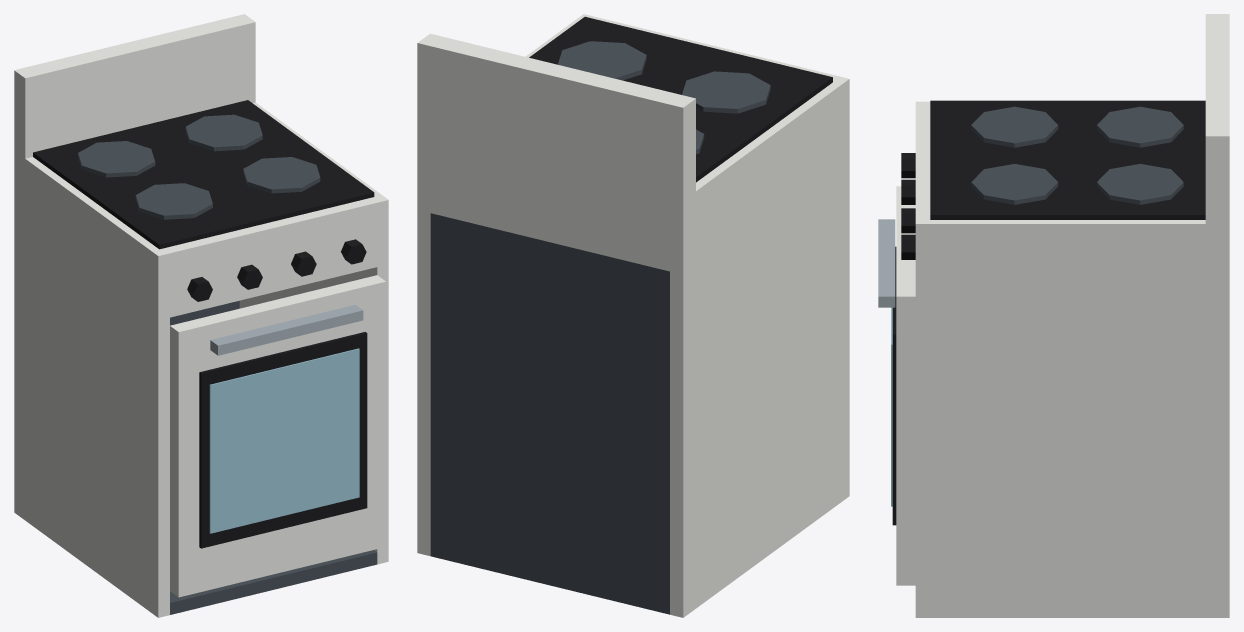
The model's file is GI_Stove_01.glb.
The picture shows the model from 3 angles, left to right: view 1: azimuth 30°, elevation 25°; view 2: azimuth 150°, elevation 25°; view 3: azimuth 270°, elevation 25°; orthographic projection. The views are drawn at different scales.
Visible parts, largest first — view 1: GI_Stove_01, Door; view 2: GI_Stove_01; view 3: GI_Stove_01, Door.
Part boxes in pixels (x1,y1,x2,y2): GI_Stove_01: (14, 14, 388, 617); Door: (170, 275, 386, 597); GI_Stove_01: (417, 14, 849, 617); GI_Stove_01: (901, 14, 1229, 617); Door: (878, 186, 915, 585).
Bounding box in the file's own units: 0.6 × 1.1 × 0.7275.
Materials: 1 (1 with a texture image).
